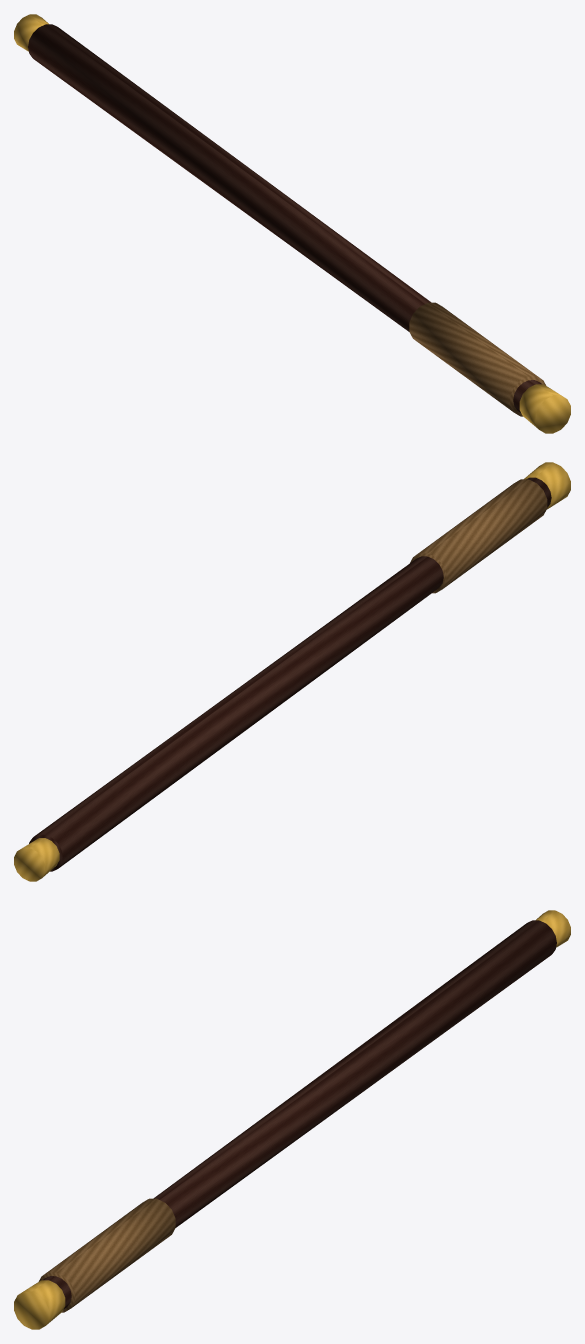
Rendered from kalari_kuruvadi.glb.
The picture shows the model from 3 angles, top to bottom: view 1: azimuth 30°, elevation 25°; view 2: azimuth 150°, elevation 25°; view 3: azimuth 330°, elevation 25°; orthographic projection.
Visible parts, largest first — view 1: Kalari_Cheruvadi_Stick; view 2: Kalari_Cheruvadi_Stick; view 3: Kalari_Cheruvadi_Stick.
Part boxes in pixels (x1,y1,x2,y2): Kalari_Cheruvadi_Stick: [14, 14, 570, 433]; Kalari_Cheruvadi_Stick: [14, 462, 570, 881]; Kalari_Cheruvadi_Stick: [14, 910, 570, 1329].
Bounding box in the file's own units: 0.0296 × 0.0304 × 0.726.
Materials: 3 (3 with a texture image).
